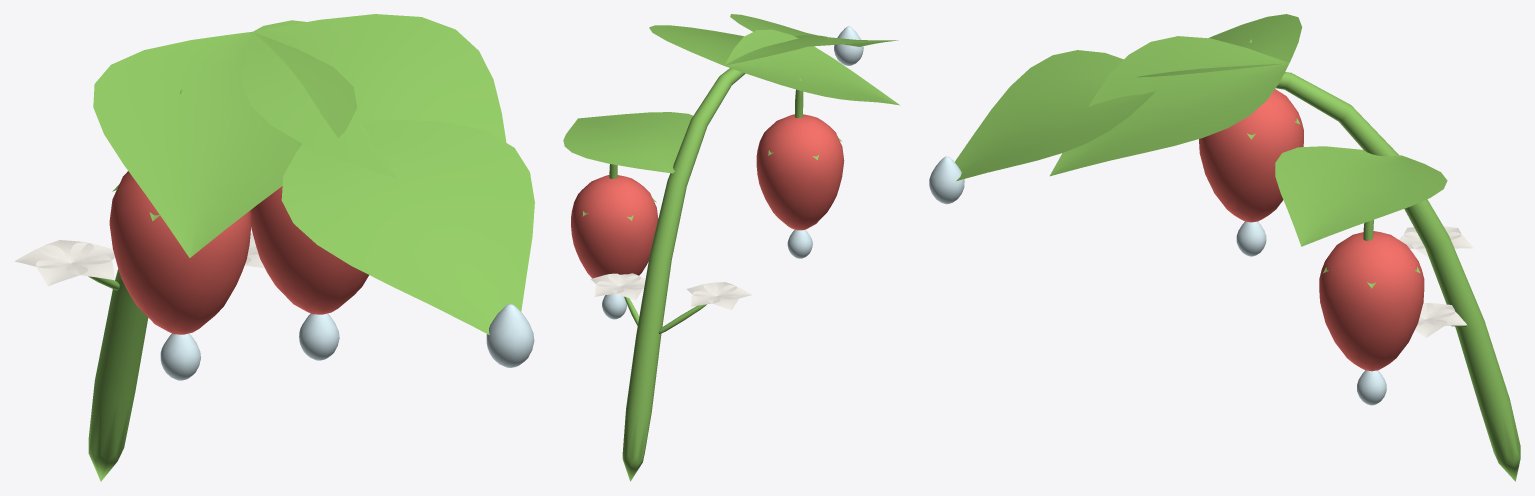
The model's file is strawberry_plant.glb.
The picture shows the model from 3 angles, left to right: view 1: azimuth 30°, elevation 25°; view 2: azimuth 150°, elevation 25°; view 3: azimuth 270°, elevation 25°; orthographic projection. The views are drawn at different scales.
Parts seen in each view (by area): view 1: SM_Forest_StrawberryPlant; view 2: SM_Forest_StrawberryPlant; view 3: SM_Forest_StrawberryPlant.
Boxes of the visible parts, x1,y1,x2,y2 form: SM_Forest_StrawberryPlant: (14,14,534,481); SM_Forest_StrawberryPlant: (563,14,899,481); SM_Forest_StrawberryPlant: (929,14,1520,481).
Bounding box in the file's own units: 2.31 × 3.05 × 3.88.
